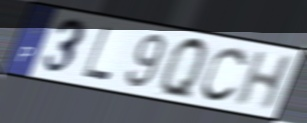3: (40, 16, 91, 77)
9: (123, 32, 168, 91)
C: (200, 45, 251, 104)
H: (231, 49, 298, 112)
L: (80, 24, 114, 83)
Q: (158, 34, 209, 104)
